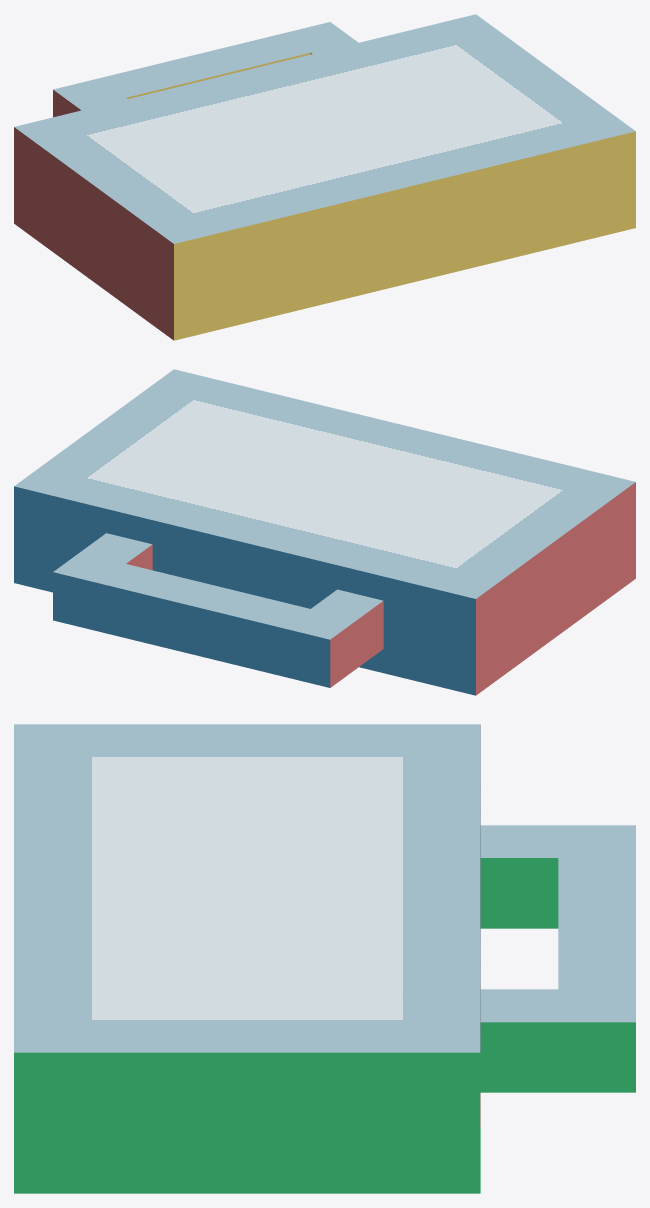
The model's file is Health Pack.obj.
3 renders of one model, top to bottom at view 1: azimuth 30°, elevation 25°; view 2: azimuth 150°, elevation 25°; view 3: azimuth 270°, elevation 25°, orthographic. The views are drawn at different scales.
Visible parts, largest first — view 1: Pack, Hande 3, Handle 1, Handle 2; view 2: Pack, Hande 3, Handle 1, Handle 2; view 3: Pack, Handle 2, Handle 1, Hande 3.
Boxes of the visible parts, x1,y1,x2,y2 form: Pack: (14,14,635,340); Hande 3: (99,33,310,98); Handle 1: (53,78,127,117); Handle 2: (284,22,358,54); Pack: (14,369,635,695); Hande 3: (99,564,309,676); Handle 1: (284,589,383,687); Handle 2: (53,533,152,631); Pack: (14,724,480,1193); Handle 2: (480,989,635,1092); Handle 1: (480,825,635,928); Hande 3: (558,858,635,989).
Bounding box in the file's own units: 0.625 × 0.125 × 0.5.
1 material, 1 textured.
